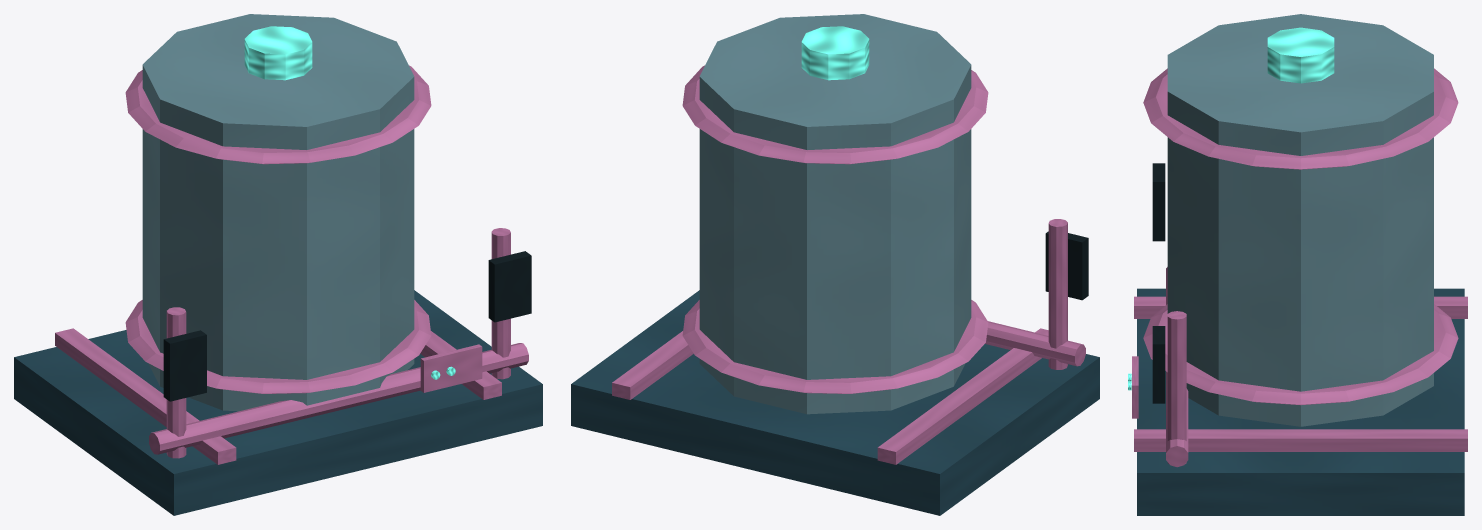
Rendered from atlas100-s064-a06.glb.
3 views of the same model, side by side, from view 1: azimuth 30°, elevation 25°; view 2: azimuth 150°, elevation 25°; view 3: azimuth 270°, elevation 25° (orthographic). The views are drawn at different scales.
Parts seen in each view (by area): view 1: atlas100-s064-a06:part-003, atlas100-s064-a06:part-000, atlas100-s064-a06:part-012, atlas100-s064-a06:part-005, atlas100-s064-a06:part-004, atlas100-s064-a06:part-001, atlas100-s064-a06:part-006, atlas100-s064-a06:part-009, atlas100-s064-a06:part-011, atlas100-s064-a06:part-013, atlas100-s064-a06:part-008, atlas100-s064-a06:part-010 (+1 smaller); view 2: atlas100-s064-a06:part-003, atlas100-s064-a06:part-000, atlas100-s064-a06:part-005, atlas100-s064-a06:part-004, atlas100-s064-a06:part-001, atlas100-s064-a06:part-006, atlas100-s064-a06:part-008, atlas100-s064-a06:part-002, atlas100-s064-a06:part-012, atlas100-s064-a06:part-009; view 3: atlas100-s064-a06:part-003, atlas100-s064-a06:part-000, atlas100-s064-a06:part-002, atlas100-s064-a06:part-005, atlas100-s064-a06:part-004, atlas100-s064-a06:part-006, atlas100-s064-a06:part-010, atlas100-s064-a06:part-001, atlas100-s064-a06:part-009, atlas100-s064-a06:part-011, atlas100-s064-a06:part-012, atlas100-s064-a06:part-013.
Boxes of the visible parts, x1=… form: atlas100-s064-a06:part-003: x1=142, y1=14, x2=414, y2=411; atlas100-s064-a06:part-000: x1=14, y1=290, x2=542, y2=515; atlas100-s064-a06:part-012: x1=149, y1=343, x2=528, y2=454; atlas100-s064-a06:part-005: x1=125, y1=65, x2=431, y2=164; atlas100-s064-a06:part-004: x1=125, y1=300, x2=431, y2=393; atlas100-s064-a06:part-001: x1=55, y1=328, x2=236, y2=464; atlas100-s064-a06:part-006: x1=244, y1=26, x2=312, y2=80; atlas100-s064-a06:part-009: x1=163, y1=330, x2=206, y2=401; atlas100-s064-a06:part-011: x1=488, y1=251, x2=531, y2=322; atlas100-s064-a06:part-013: x1=420, y1=344, x2=482, y2=392; atlas100-s064-a06:part-008: x1=166, y1=307, x2=186, y2=458; atlas100-s064-a06:part-010: x1=491, y1=228, x2=510, y2=379; atlas100-s064-a06:part-003: x1=699, y1=14, x2=971, y2=414; atlas100-s064-a06:part-000: x1=571, y1=290, x2=1099, y2=515; atlas100-s064-a06:part-005: x1=682, y1=65, x2=988, y2=164; atlas100-s064-a06:part-004: x1=682, y1=300, x2=988, y2=393; atlas100-s064-a06:part-001: x1=877, y1=328, x2=1048, y2=464; atlas100-s064-a06:part-006: x1=801, y1=26, x2=869, y2=80; atlas100-s064-a06:part-008: x1=1048, y1=219, x2=1067, y2=369; atlas100-s064-a06:part-002: x1=612, y1=331, x2=693, y2=399; atlas100-s064-a06:part-012: x1=985, y1=321, x2=1085, y2=366; atlas100-s064-a06:part-009: x1=1045, y1=231, x2=1088, y2=300; atlas100-s064-a06:part-003: x1=1167, y1=14, x2=1433, y2=426; atlas100-s064-a06:part-000: x1=1137, y1=288, x2=1464, y2=515; atlas100-s064-a06:part-002: x1=1134, y1=429, x2=1467, y2=451; atlas100-s064-a06:part-005: x1=1143, y1=68, x2=1458, y2=169; atlas100-s064-a06:part-004: x1=1143, y1=304, x2=1458, y2=405; atlas100-s064-a06:part-006: x1=1267, y1=27, x2=1334, y2=83; atlas100-s064-a06:part-010: x1=1167, y1=311, x2=1186, y2=463; atlas100-s064-a06:part-001: x1=1134, y1=296, x2=1467, y2=318; atlas100-s064-a06:part-009: x1=1152, y1=163, x2=1165, y2=241; atlas100-s064-a06:part-011: x1=1152, y1=326, x2=1165, y2=403; atlas100-s064-a06:part-012: x1=1166, y1=267, x2=1188, y2=467; atlas100-s064-a06:part-013: x1=1132, y1=356, x2=1138, y2=418.
Bounding box in the file's own units: 2.4 × 2.31 × 1.87.
Materials: 5 (5 with a texture image).
